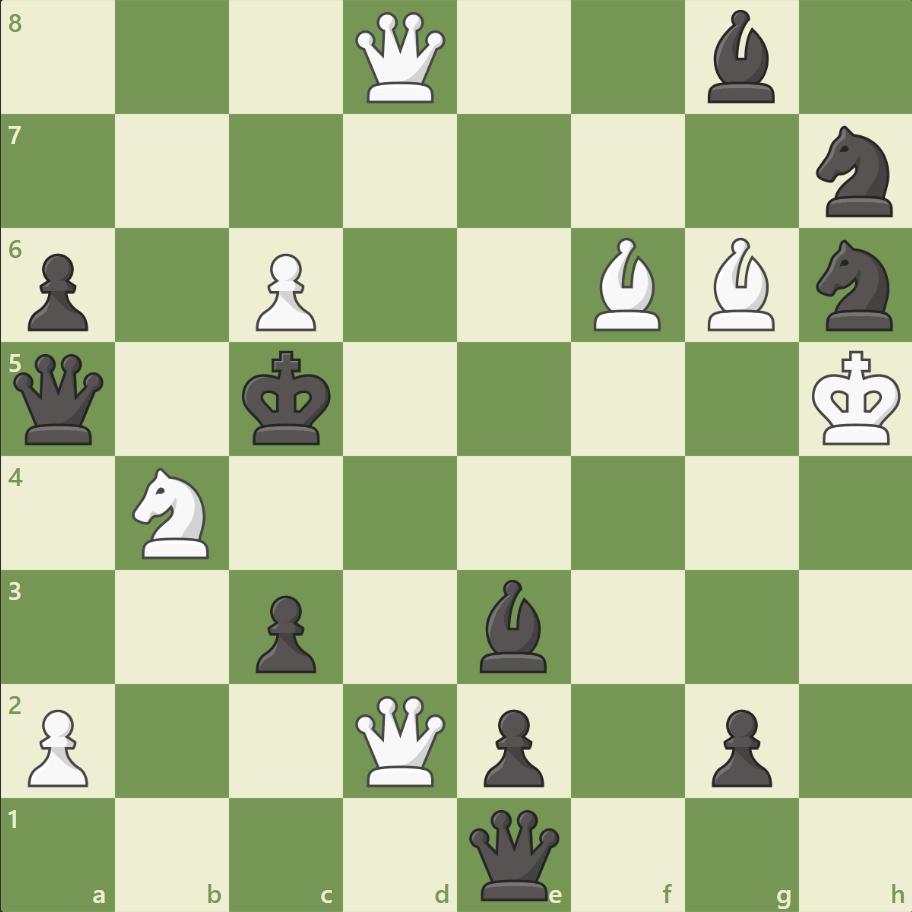B: (585, 233, 669, 336), (698, 233, 782, 336)
K: (806, 344, 906, 452)
N: (124, 461, 222, 564)
P: (247, 246, 322, 337), (20, 700, 95, 791)
Q: (351, 9, 450, 108), (351, 690, 450, 789)
b: (698, 6, 782, 109), (471, 574, 555, 676)
k: (238, 344, 338, 452)
n: (806, 234, 903, 337), (806, 121, 903, 223)
p: (20, 246, 95, 337), (247, 586, 322, 677), (474, 700, 549, 791), (701, 700, 776, 791)
q: (10, 349, 109, 449), (464, 804, 563, 903)
